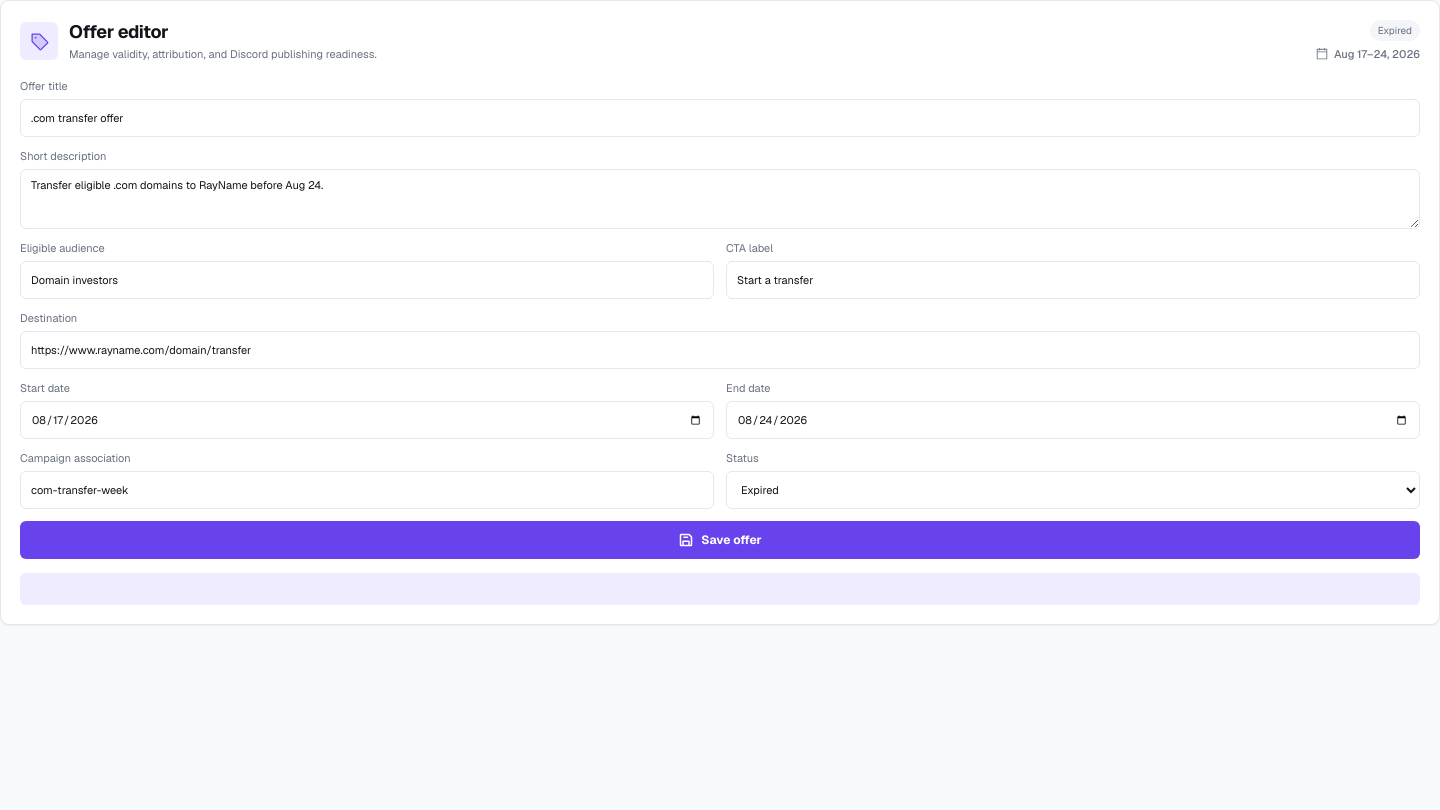
Test case: rejects a credential-bearing RayName offer destination
The image size is (1440, 810).
Step 1. Replace the text in the field labelled "Destination" with "https://attacker:secret@www.rayname.com/domain/transfer" → (720, 350), box [20, 331, 1420, 369]
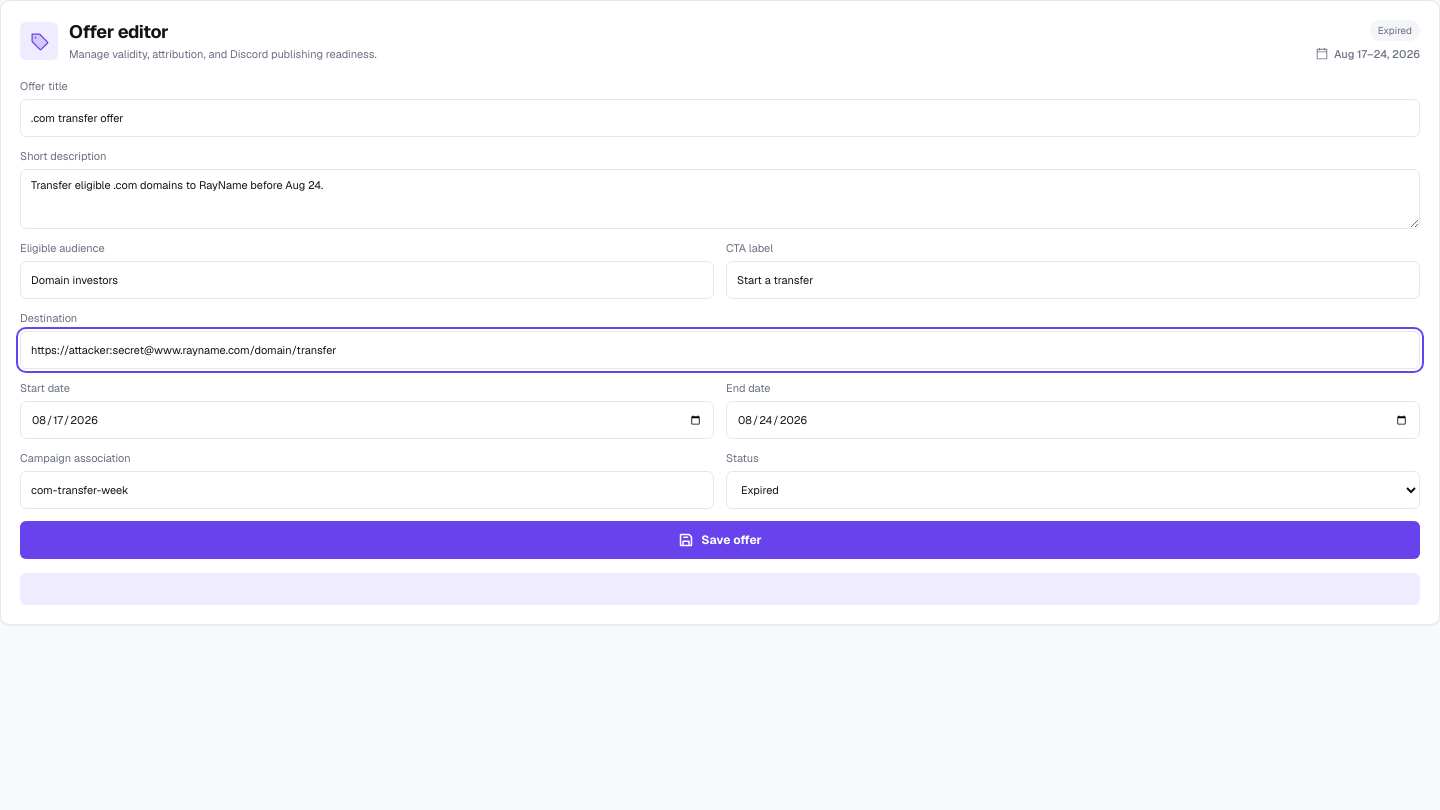
Step 2. Click the button "Save offer" → click(720, 540), box [20, 521, 1420, 559]
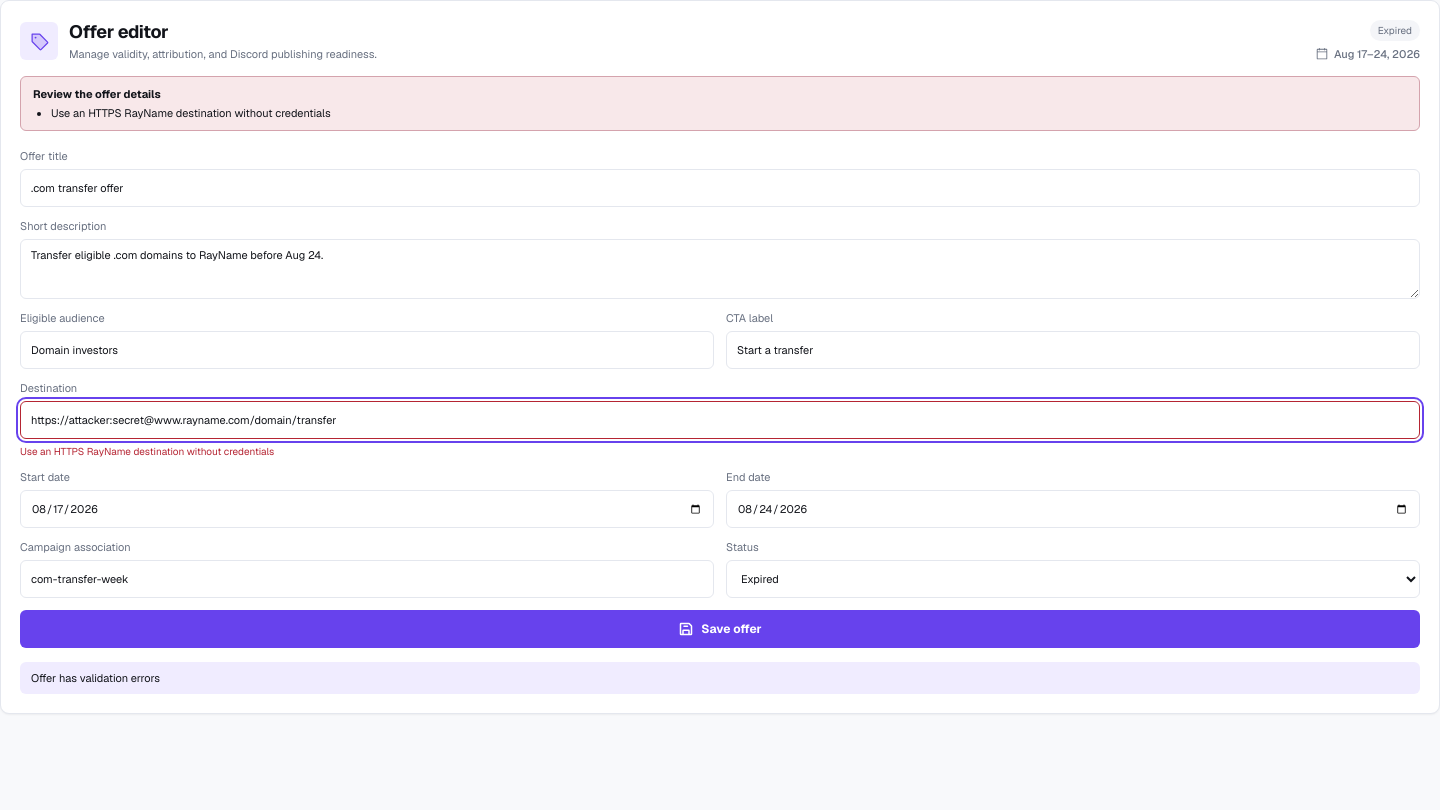
Expected: the message "Review the offer details Use an HTTPS RayName destination without credentials" is shown, [20, 76, 1420, 131]
